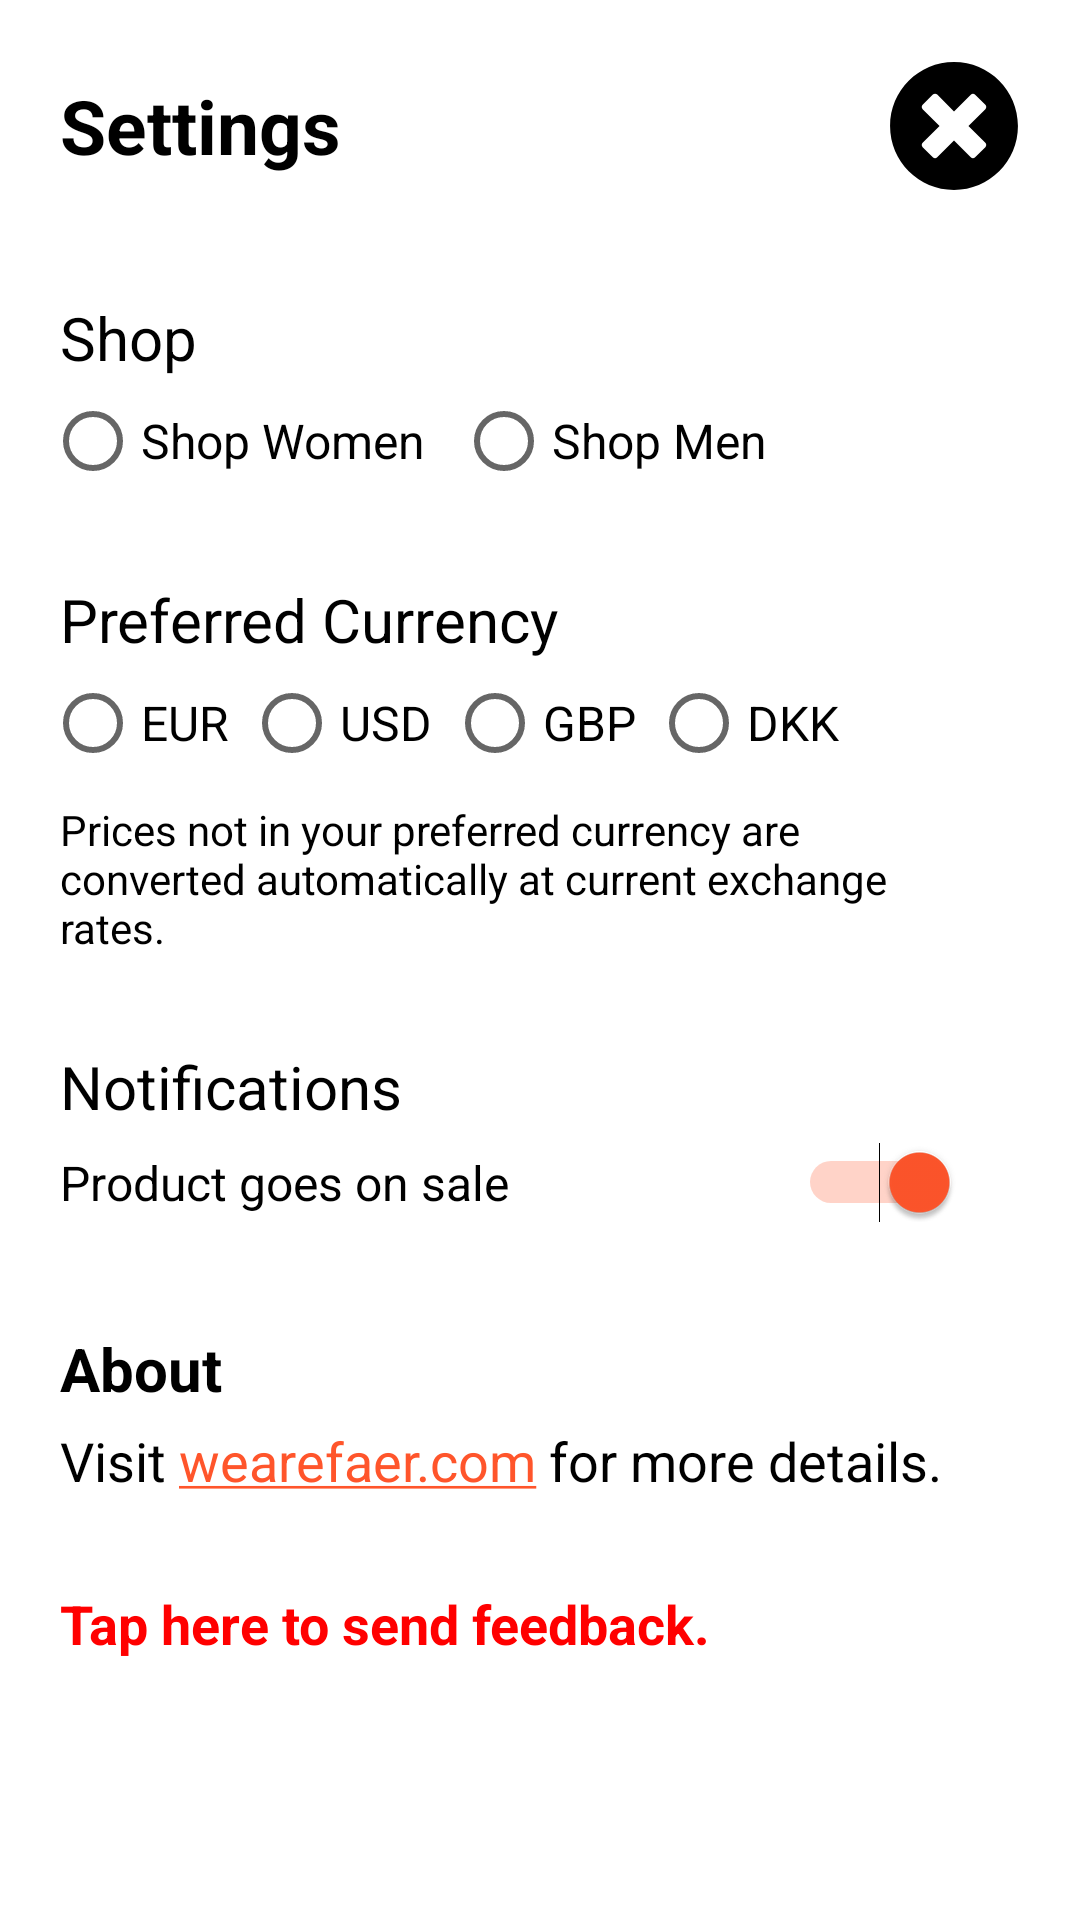

Named icons in this screenshot (1080 x 1920) and their centers, (x=x, y=y):
close circle: (x=954, y=126)
